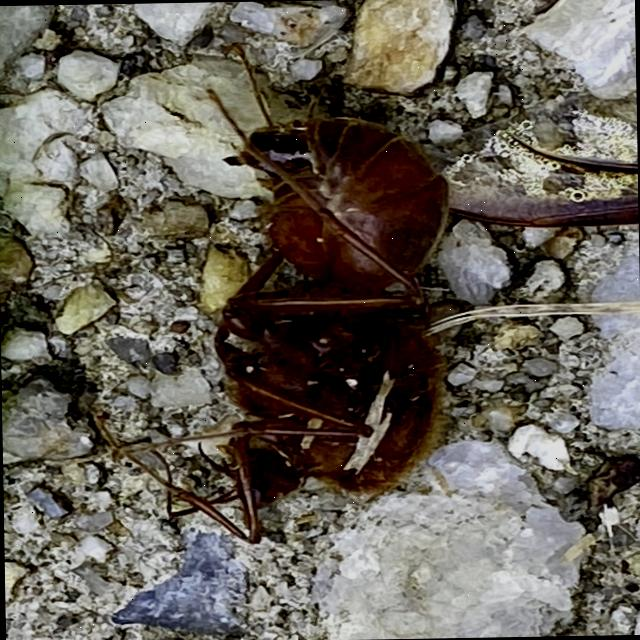Dead-Male-Dealate: (85, 35, 640, 548)
